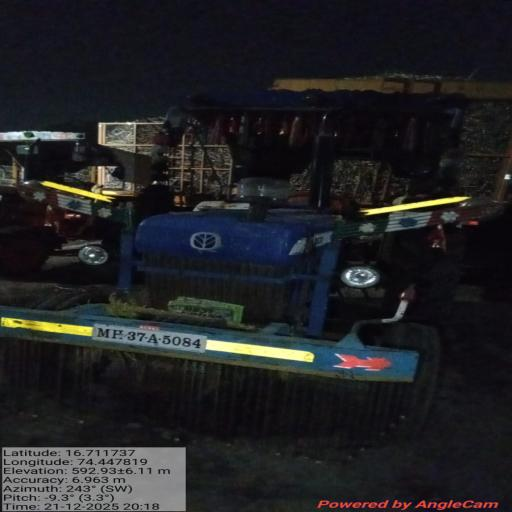number_plate: (93, 324, 207, 352)
